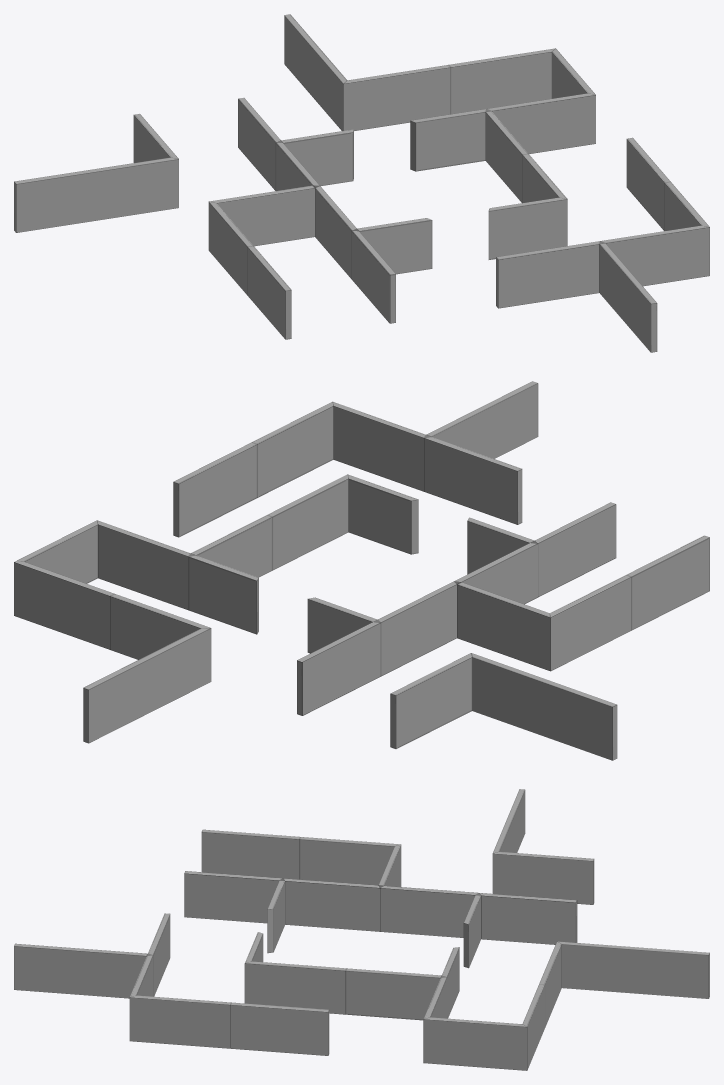
File: Arena_Malphas_walls1.fbx
3 renders of one model, top to bottom at view 1: azimuth 30°, elevation 25°; view 2: azimuth 150°, elevation 25°; view 3: azimuth 270°, elevation 25°, orthographic. The views are drawn at different scales.
Visible parts, largest first — view 1: polySurface_wall; view 2: polySurface_wall; view 3: polySurface_wall.
Boxes of the visible parts, <box> form: polySurface_wall: <box>14,14,709,352</box>; polySurface_wall: <box>14,381,709,760</box>; polySurface_wall: <box>14,789,709,1070</box>.
Size of the model in its own units: 20.51 by 1.76 by 25.35.
Materials: 1 (1 with a texture image).
